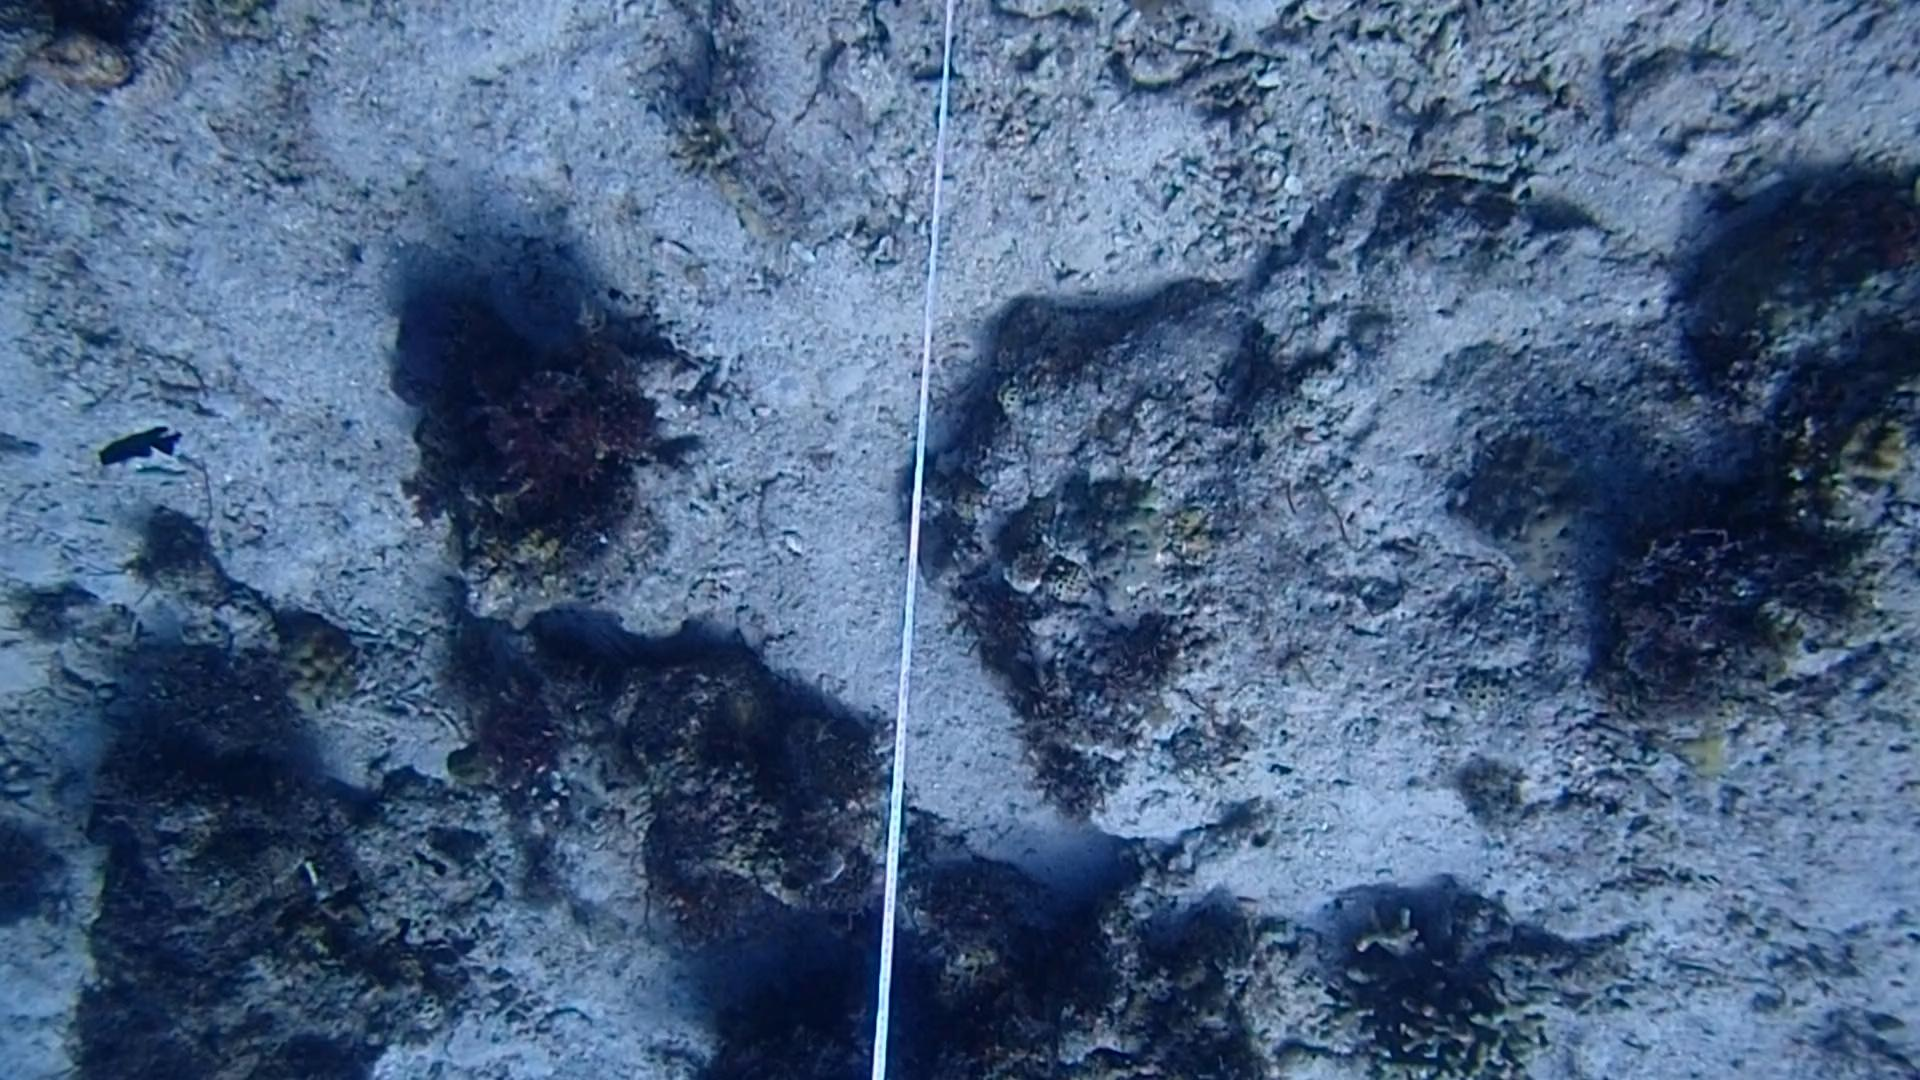Dark Fish: (86, 404, 189, 487)
